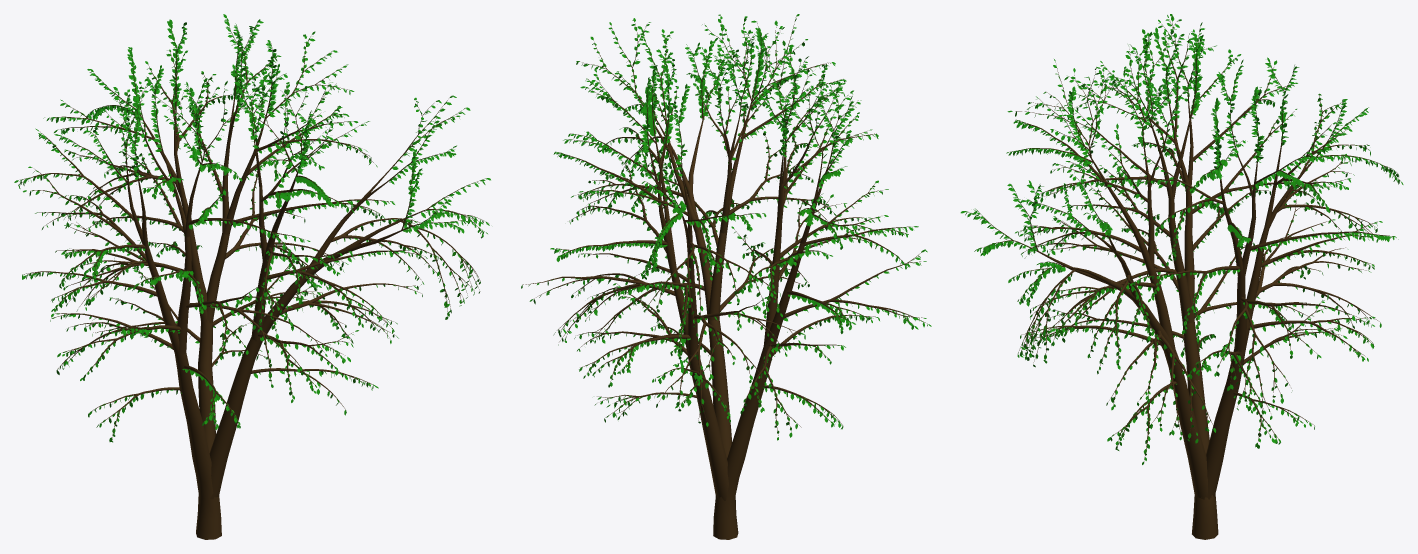
File: tree_level3.gltf
3 views of the same model, side by side, from view 1: azimuth 30°, elevation 25°; view 2: azimuth 150°, elevation 25°; view 3: azimuth 270°, elevation 25° (orthographic). The views are drawn at different scales.
Parts seen in each view (by area): view 1: tree, leaves; view 2: tree, leaves; view 3: tree, leaves.
Part boxes in pixels (left/top/right/bottom): tree: left=20, top=19, right=483, bottom=539; leaves: left=14, top=14, right=490, bottom=442; tree: left=522, top=16, right=927, bottom=539; leaves: left=521, top=14, right=931, bottom=440; tree: left=969, top=16, right=1400, bottom=539; leaves: left=960, top=14, right=1403, bottom=464.
Bounding box in the file's own units: 13.03 × 16.29 × 13.31.
